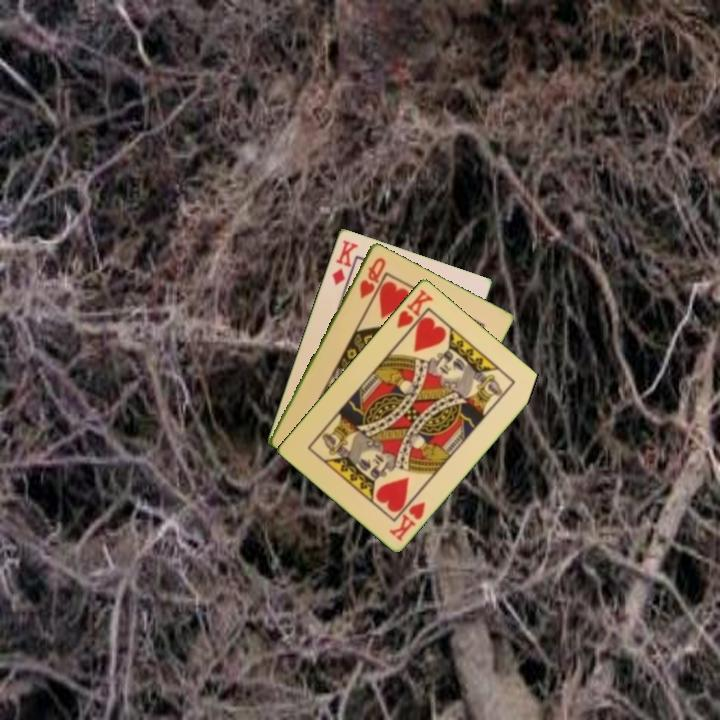Kd: (328, 236, 361, 287)
Kh: (393, 285, 436, 339), (385, 498, 428, 544)
Qh: (356, 253, 389, 302)
